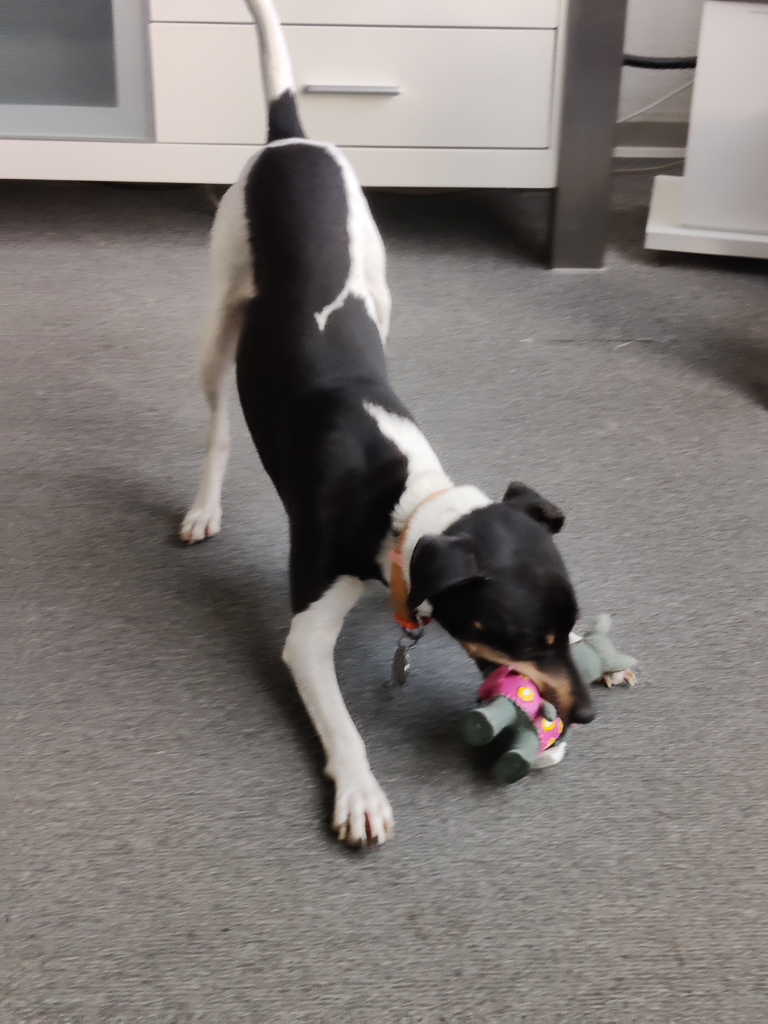Dog: (131, 0, 672, 868)
Humanoid: (448, 597, 658, 798)
